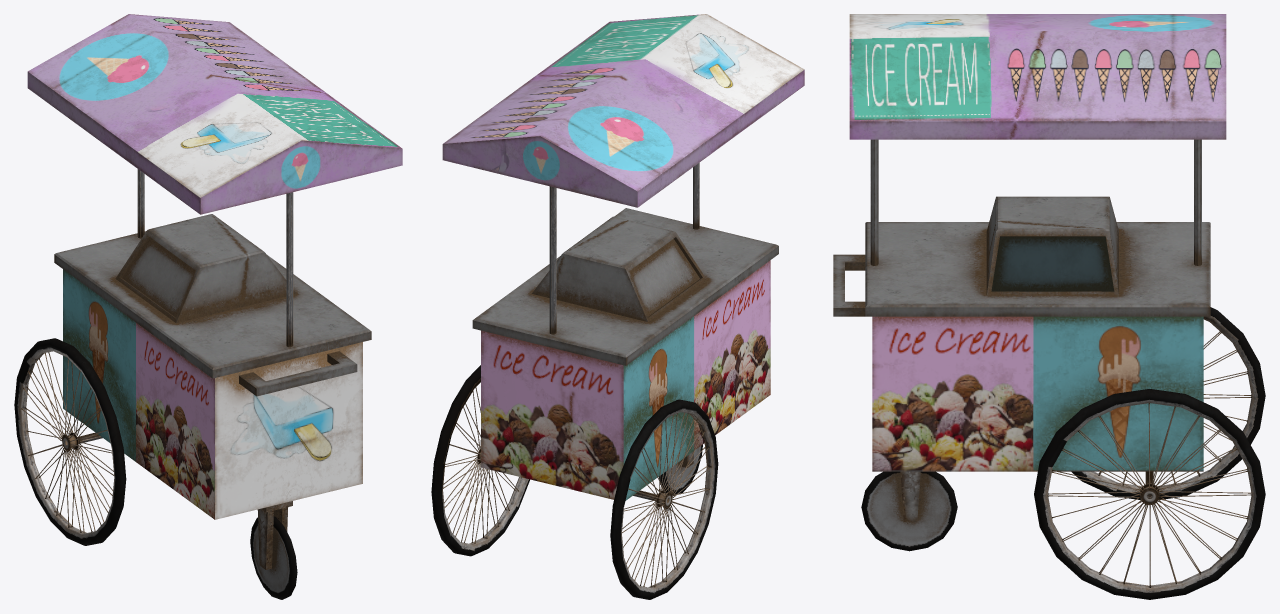
File: ice_cream_cart.glb
The picture shows the model from 3 angles, left to right: view 1: azimuth 30°, elevation 25°; view 2: azimuth 150°, elevation 25°; view 3: azimuth 270°, elevation 25°; orthographic projection. The views are drawn at different scales.
Parts seen in each view (by area): view 1: cart, roof, polySurface1, wheel_small, cylinder, cylinder2; view 2: cart, roof, polySurface1, wheel2:polySurface1, cylinder2, wheel_small; view 3: cart, roof, wheel2:polySurface1, wheel_small, polySurface1, cylinder, cylinder2.
Boxes of the visible parts, <box> form: cart: <box>54,214,371,569</box>; roof: <box>27,14,402,214</box>; polySurface1: <box>14,338,126,545</box>; wheel_small: <box>250,516,297,599</box>; cylinder: <box>286,192,293,347</box>; cylinder2: <box>137,169,144,238</box>; cart: <box>472,208,778,500</box>; roof: <box>442,14,804,207</box>; polySurface1: <box>610,399,718,599</box>; wheel2:polySurface1: <box>431,365,529,556</box>; cylinder2: <box>549,186,556,334</box>; wheel_small: <box>659,444,702,495</box>; cart: <box>833,196,1210,521</box>; roof: <box>849,14,1226,139</box>; wheel2:polySurface1: <box>1034,389,1265,599</box>; wheel_small: <box>861,471,957,551</box>; polySurface1: <box>1071,307,1265,499</box>; cylinder: <box>870,139,878,265</box>; cylinder2: <box>1194,139,1201,265</box>.
Bounding box in the file's own units: 125 × 281 × 212.
Materials: 1 (1 with a texture image).
